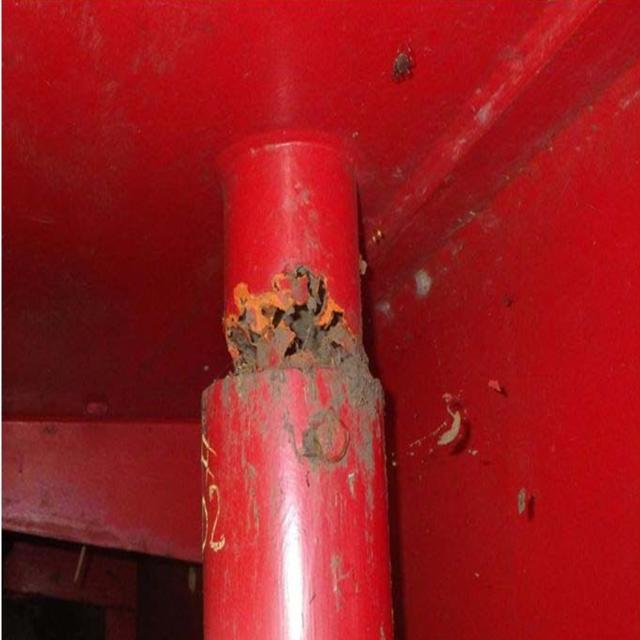corrosion: (188, 260, 398, 400)
